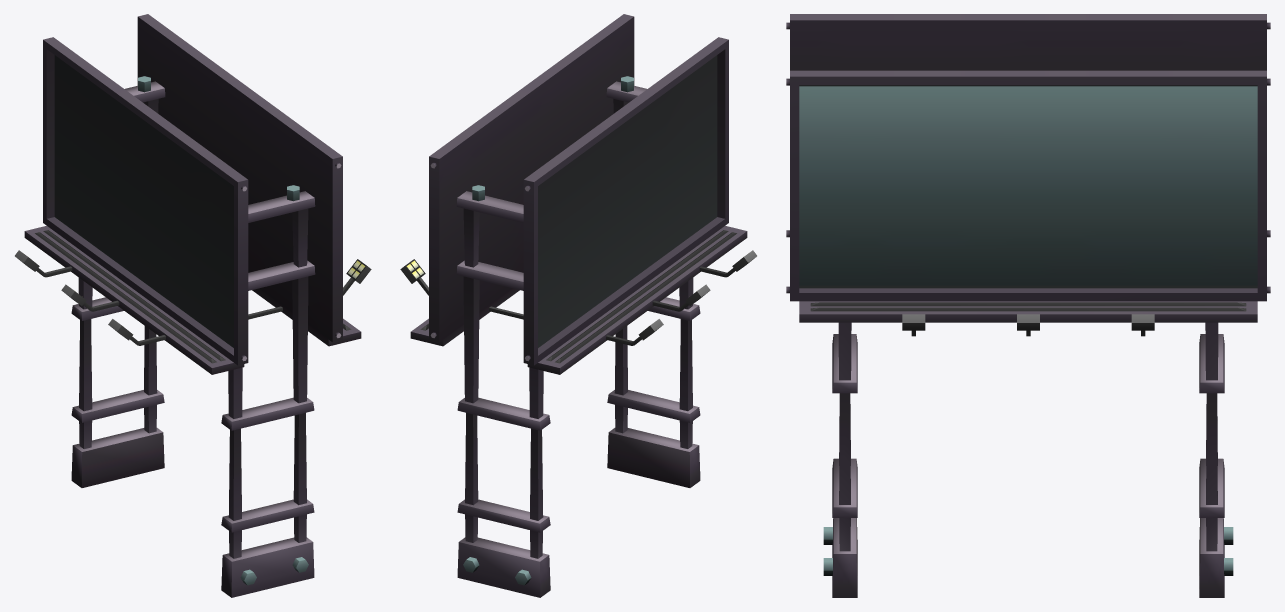
Rendered from Billboard_2D.fbx.
3 renders of one model, left to right at view 1: azimuth 30°, elevation 25°; view 2: azimuth 150°, elevation 25°; view 3: azimuth 270°, elevation 25°, orthographic. The views are drawn at different scales.
Visible parts, largest first — view 1: Billboard_2D; view 2: Billboard_2D; view 3: Billboard_2D_Image.R, Billboard_2D.
Boxes of the visible parts, x1,y1,x2,y2 form: Billboard_2D: (15, 14, 371, 597); Billboard_2D: (400, 14, 756, 597); Billboard_2D_Image.R: (799, 86, 1257, 285); Billboard_2D: (786, 14, 1270, 597).
Size of the model in its own units: 239 by 387 by 322.
